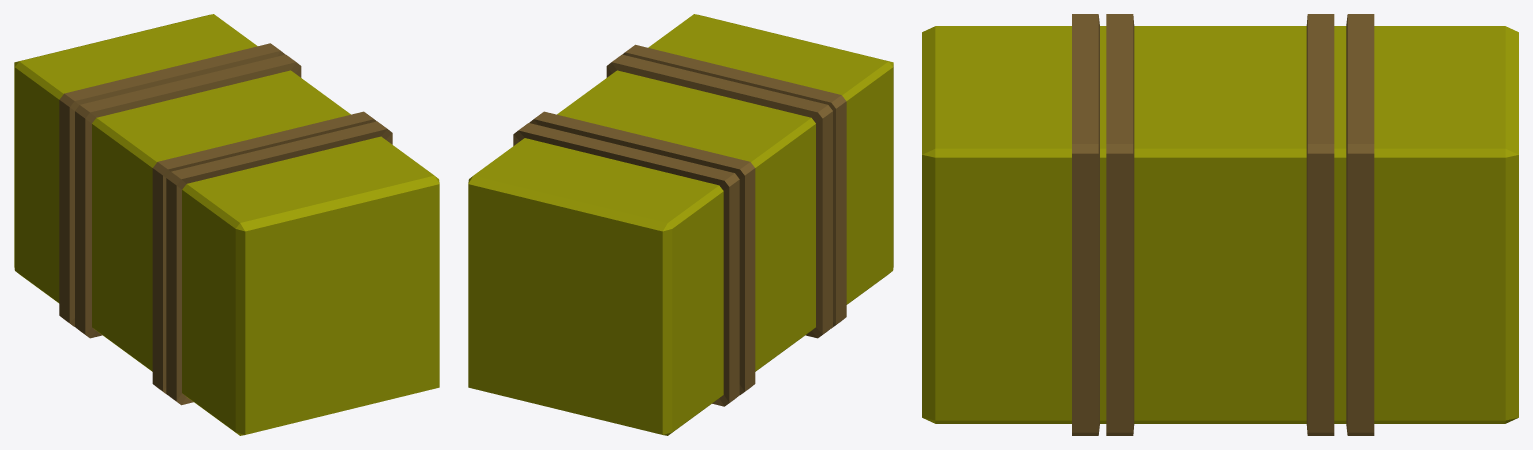
Rendered from SheafofHay.fbx.
The picture shows the model from 3 angles, left to right: view 1: azimuth 30°, elevation 25°; view 2: azimuth 150°, elevation 25°; view 3: azimuth 270°, elevation 25°; orthographic projection. The views are drawn at different scales.
Parts seen in each view (by area): view 1: Cube; view 2: Cube; view 3: Cube.
Boxes of the visible parts, x1,y1,x2,y2 form: Cube: [14, 14, 439, 435]; Cube: [468, 14, 893, 435]; Cube: [922, 14, 1518, 435].
Bounding box in the file's own units: 723 × 723 × 1340.
